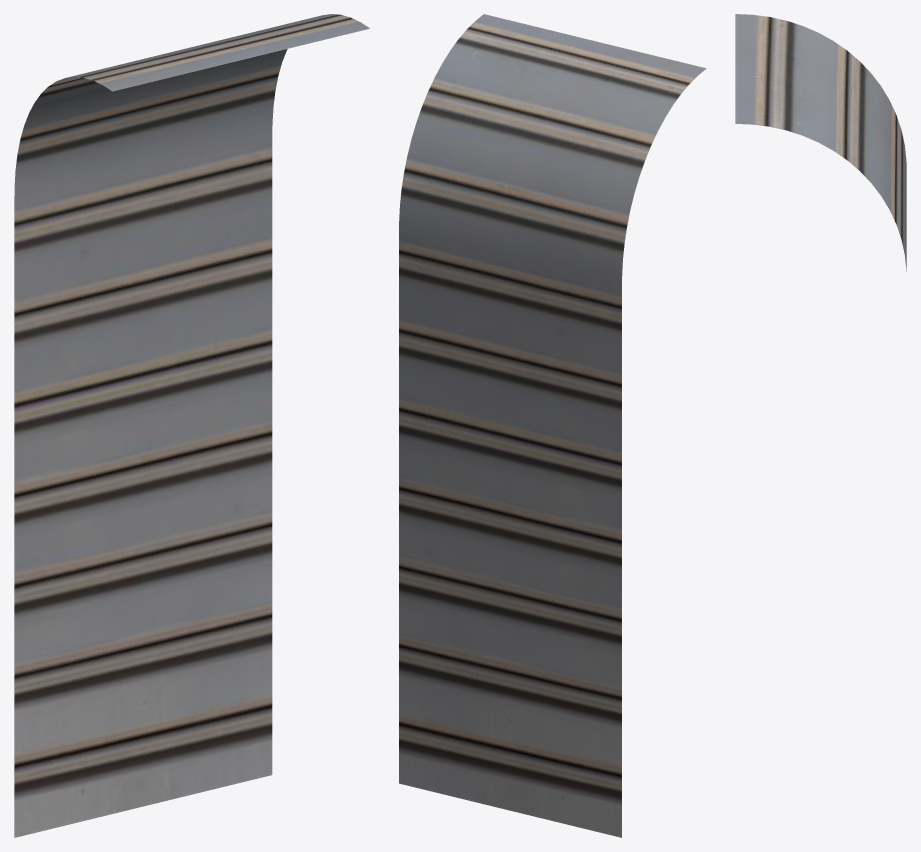
File: Door.fbx
3 views of the same model, side by side, from view 1: azimuth 30°, elevation 25°; view 2: azimuth 150°, elevation 25°; view 3: azimuth 270°, elevation 25° (orthographic). The views are drawn at different scales.
Visible parts, largest first — view 1: Door; view 2: Door; view 3: Door.
Part boxes in pixels (x1,y1,x2,y2): Door: [14, 14, 369, 837]; Door: [399, 14, 706, 837]; Door: [735, 14, 906, 271].
Bounding box in the file's own units: 150 × 455 × 98.86.
Materials: 1 (1 with a texture image).
